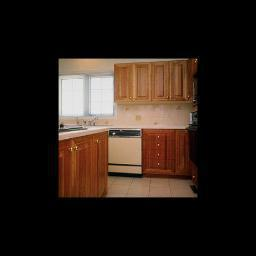Electrodomestico: (107, 130, 140, 175)
